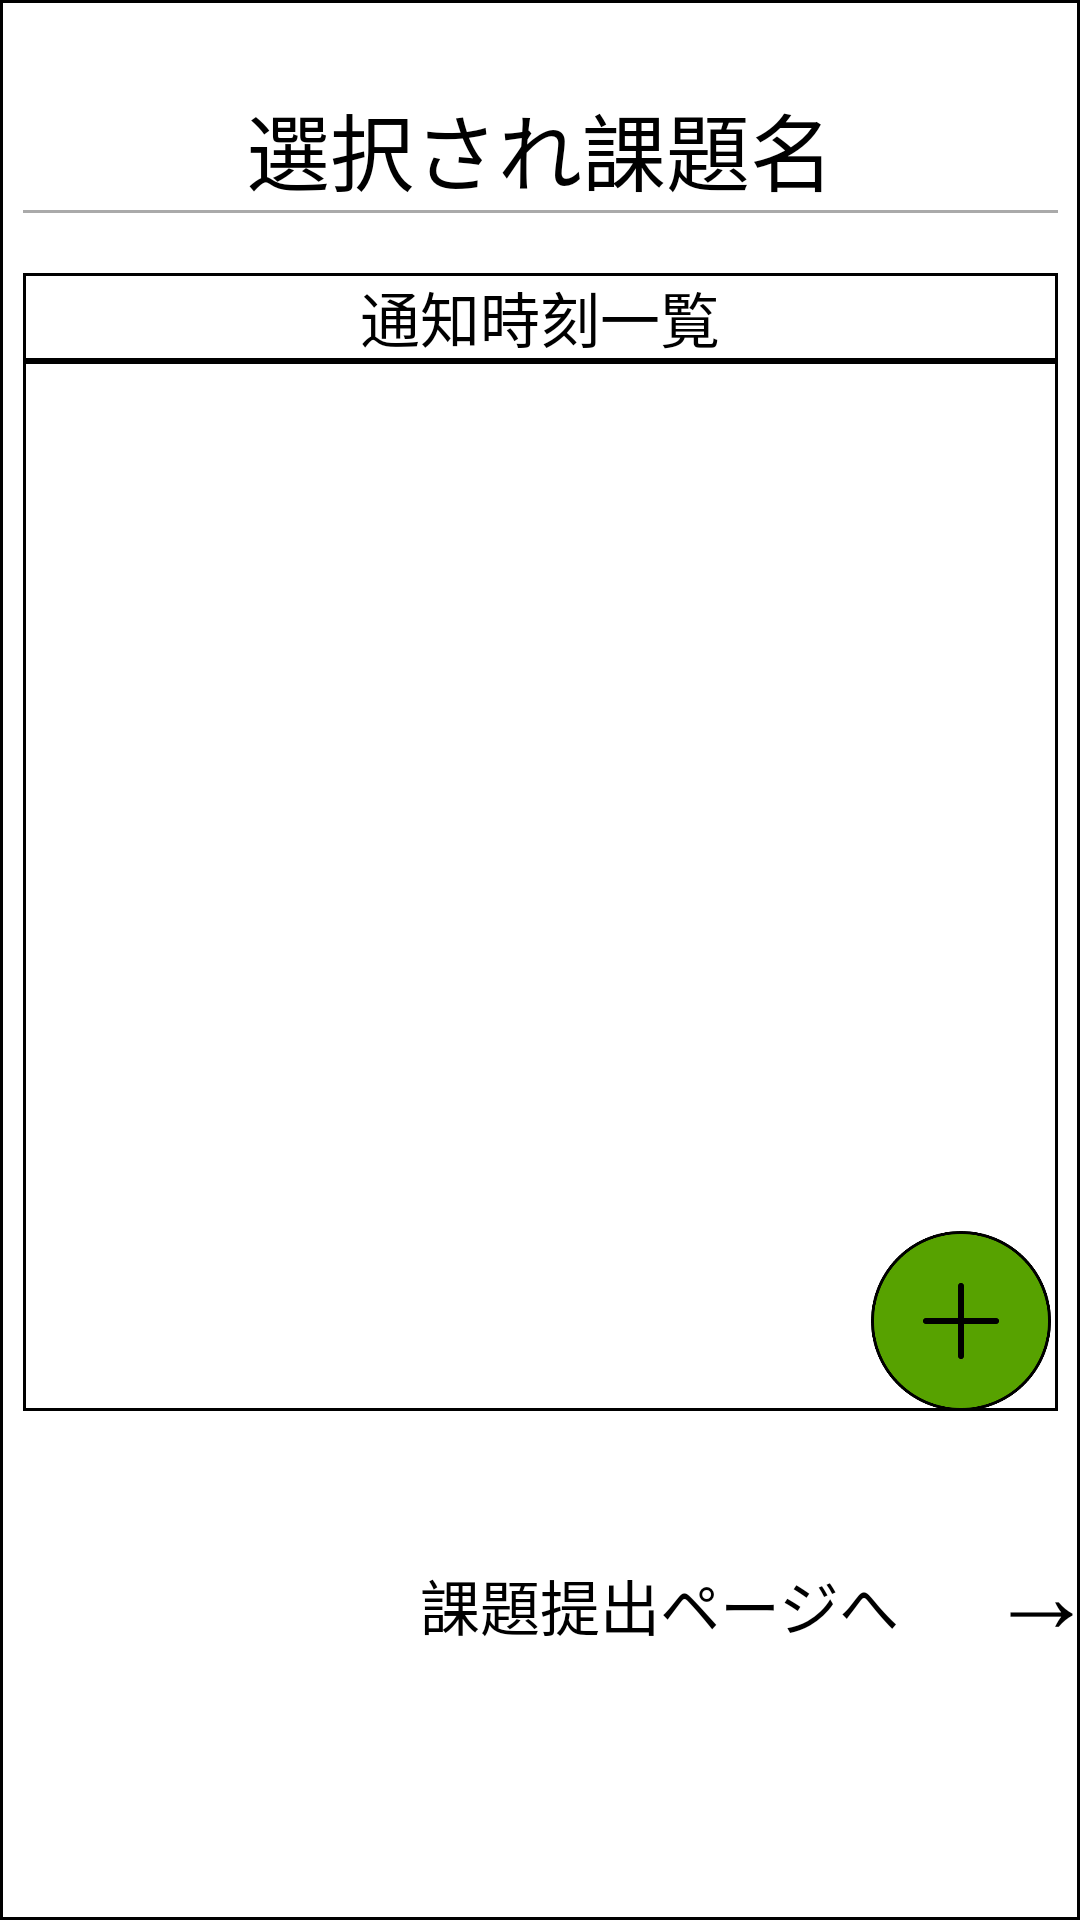

Where to tap for icons on this 1080 x 1920 app screen, as (x,y):
add notification bottun: (961,1321)
